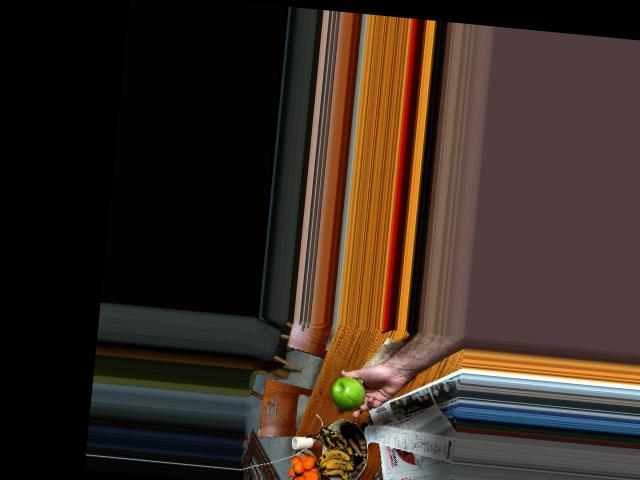apple: (326, 374, 368, 413)
